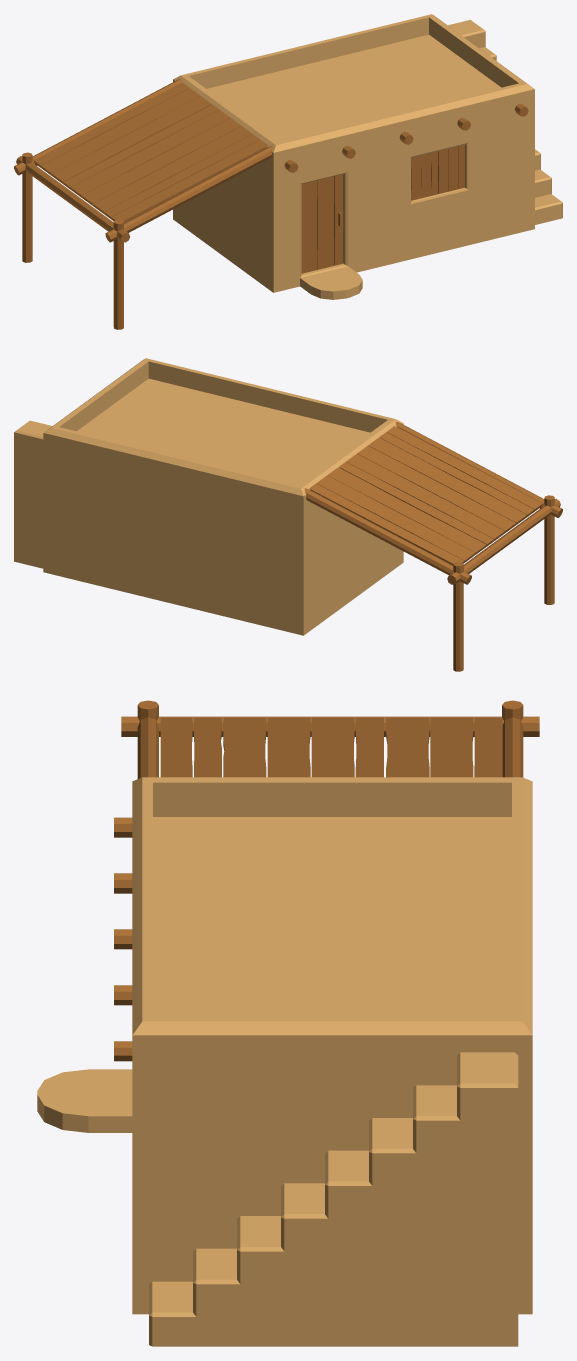
The model's file is Temple3.fbx.
The picture shows the model from 3 angles, top to bottom: view 1: azimuth 30°, elevation 25°; view 2: azimuth 150°, elevation 25°; view 3: azimuth 270°, elevation 25°; orthographic projection. The views are drawn at different scales.
Visible parts, largest first — view 1: Temple 3; view 2: Temple 3; view 3: Temple 3.
Boxes of the visible parts, box(x1,y1,x2,y2) form: Temple 3: box(14, 14, 562, 329); Temple 3: box(14, 358, 562, 671); Temple 3: box(37, 700, 539, 1346).
Bounding box in the file's own units: 1576 × 753 × 479.
